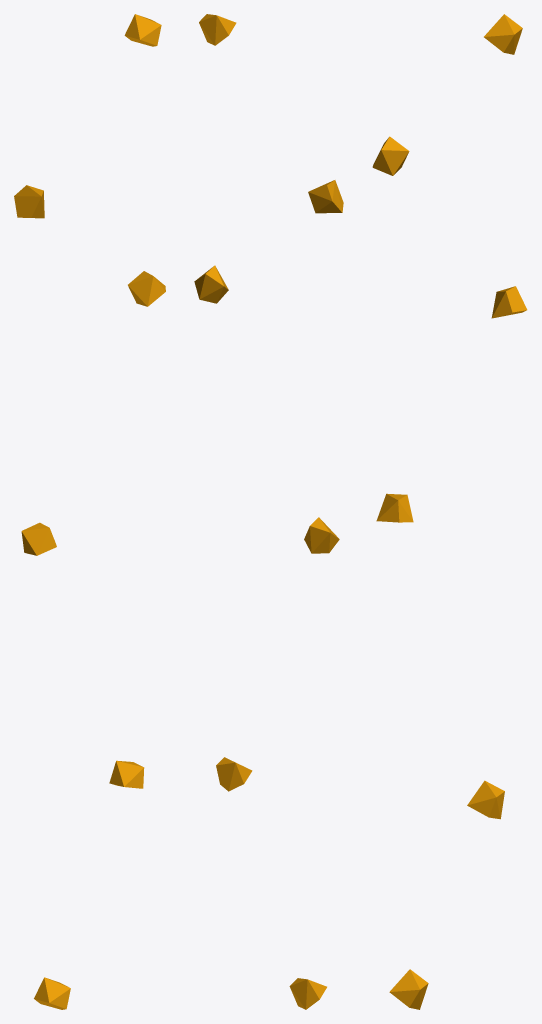
File: dirt_row_GoldTraces.fbx
The picture shows the model from 3 angles, left to right: view 1: azimuth 30°, elevation 25°; view 2: azimuth 150°, elevation 25°; view 3: azimuth 330°, elevation 25°; orthographic projection. The views are drawn at different scales.
Parts seen in each view (by area): view 1: GoldTraces; view 2: GoldTraces; view 3: GoldTraces.
Part boxes in pixels (x1,y1,x2,y2): GoldTraces: (14, 14, 165, 1009); GoldTraces: (194, 14, 343, 1009); GoldTraces: (372, 14, 527, 1009).
Size of the model in its own units: 134 by 839 by 23.68.
